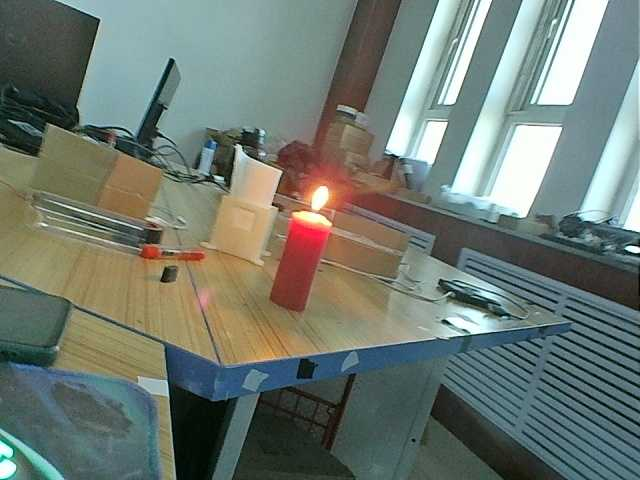candle: (268, 210, 336, 306)
fire: (293, 182, 343, 225)
